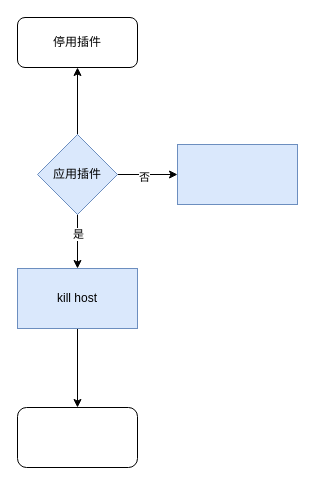
Some shapes in this 315 by 485 pixel diagram are drawn without their labels. Each missing label, with the centre of its shape:
"停用成功" goes at (x=77, y=437).
"发送消息给nodehost" goes at (x=237, y=174).
